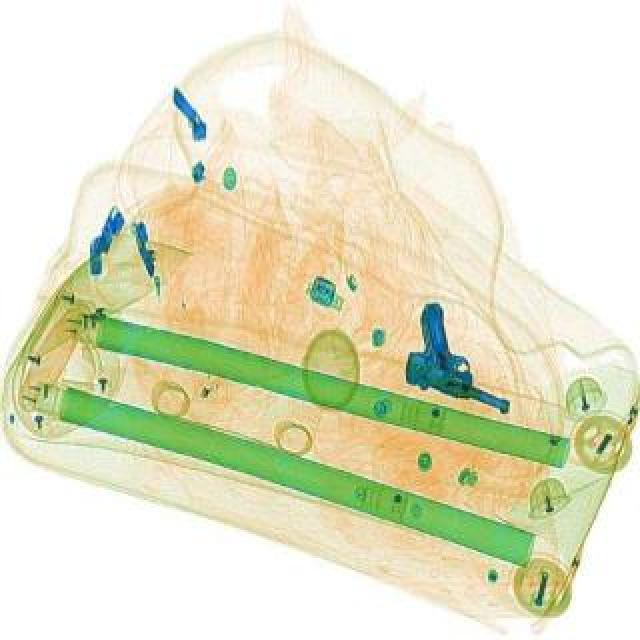gun: (386, 292, 512, 436)
